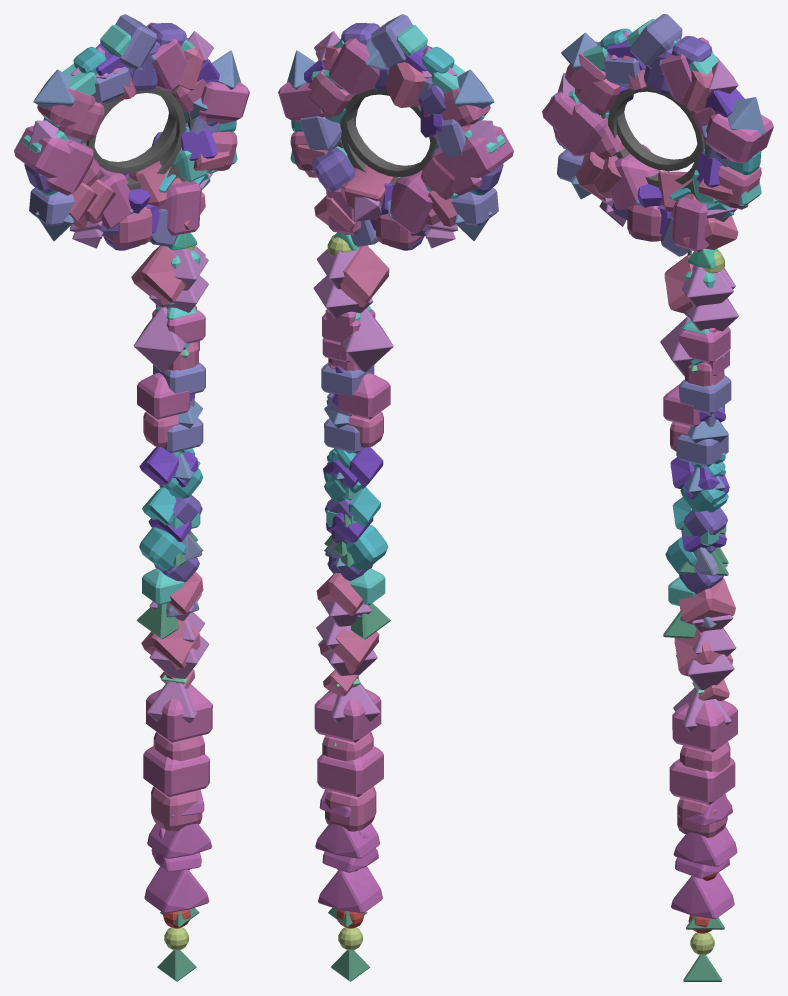
The model's file is RIng_Test.fbx.
3 renders of one model, left to right at view 1: azimuth 30°, elevation 25°; view 2: azimuth 150°, elevation 25°; view 3: azimuth 330°, elevation 25°, orthographic.
Visible parts, largest first — view 1: Ring_Wide_Mid, Ring_Wide_Long, Ring_Small_Long, Ring_Wide_Small, Ring_Small_Mid, polySurface40 (×2), Gem_Trigal_Big (×2), polySurface41 (×3), polySurface61 (×2), polySurface23 (×2), Ring_Small_Short, polySurface25 (×2) (+12 smaller); view 2: Ring_Small_Short, Ring_Small_Mid, Ring_Wide_Mid, Ring_Wide_Long, polySurface40 (×2), Ring_Wide_Small, Gem_Trigal_Big (×2), polySurface41 (×3), polySurface63 (×2), polySurface23 (×2), polySurface25 (×2), polySurface61 (×2) (+14 smaller); view 3: Ring_Wide_Long, Ring_Small_Long, Ring_Wide_Mid, Ring_Wide_Small, Ring_Small_Mid, polySurface40 (×2), Gem_Trigal_Big (×2), polySurface41 (×3), polySurface36 (×2), polySurface25 (×2), polySurface61 (×2), Ring_Small_Short (+12 smaller).
Boxes of the visible parts, x1,y1,x2,y2 form: Ring_Wide_Mid: [24, 25, 230, 248]; Ring_Wide_Long: [14, 14, 240, 235]; Ring_Small_Long: [45, 66, 207, 223]; Ring_Wide_Small: [22, 38, 249, 250]; Ring_Small_Mid: [43, 55, 217, 229]; polySurface40 (×2): [143, 687, 212, 797]; Gem_Trigal_Big (×2): [144, 823, 212, 913]; polySurface41 (×3): [134, 247, 208, 371]; polySurface61 (×2): [137, 309, 205, 419]; polySurface23 (×2): [151, 732, 204, 831]; Ring_Small_Short: [83, 22, 219, 214]; polySurface25 (×2): [141, 571, 203, 669]; Ring_Small_Short: [299, 38, 458, 221]; Ring_Small_Mid: [311, 38, 465, 233]; Ring_Wide_Mid: [295, 25, 503, 248]; Ring_Wide_Long: [287, 14, 513, 235]; polySurface40 (×2): [314, 689, 383, 797]; Ring_Wide_Small: [278, 39, 505, 250]; Gem_Trigal_Big (×2): [315, 823, 382, 913]; polySurface41 (×3): [313, 247, 393, 372]; polySurface63 (×2): [314, 195, 389, 307]; polySurface23 (×2): [322, 732, 376, 831]; polySurface25 (×2): [316, 572, 379, 673]; polySurface61 (×2): [322, 309, 390, 419]; Ring_Wide_Long: [542, 14, 765, 234]; Ring_Small_Long: [554, 55, 717, 207]; Ring_Wide_Mid: [553, 18, 748, 252]; Ring_Wide_Small: [550, 40, 773, 256]; Ring_Small_Mid: [579, 38, 740, 211]; polySurface40 (×2): [669, 700, 737, 804]; Gem_Trigal_Big (×2): [671, 826, 737, 918]; polySurface41 (×3): [660, 265, 738, 376]; polySurface36 (×2): [676, 375, 731, 466]; polySurface25 (×2): [674, 578, 735, 676]; polySurface61 (×2): [663, 327, 730, 426]; Ring_Small_Short: [599, 37, 730, 205].
Bounding box in the file's own units: 0.0253 × 0.1076 × 0.00816.
